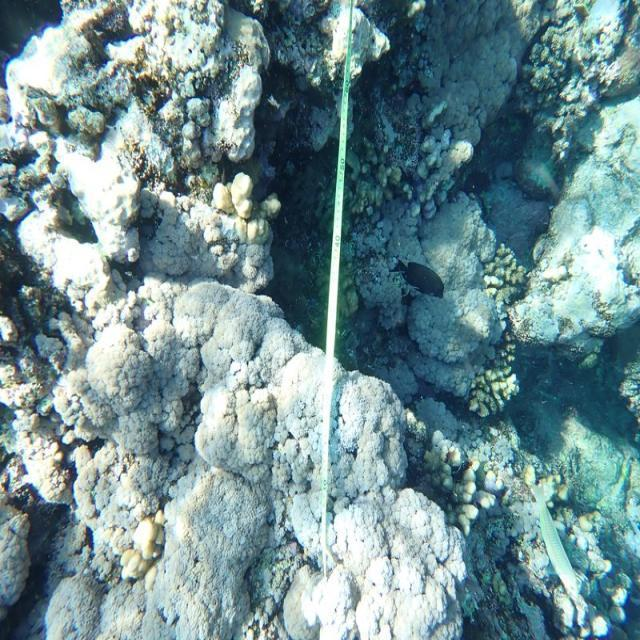Bleached Coral: (0, 254, 468, 640)
